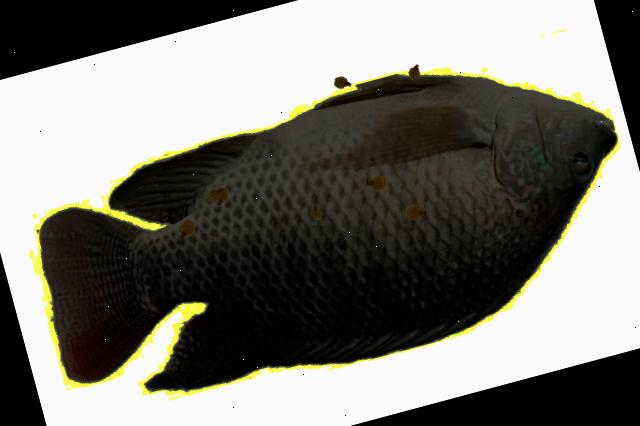Parasitic Disease: (40, 75, 615, 388)
